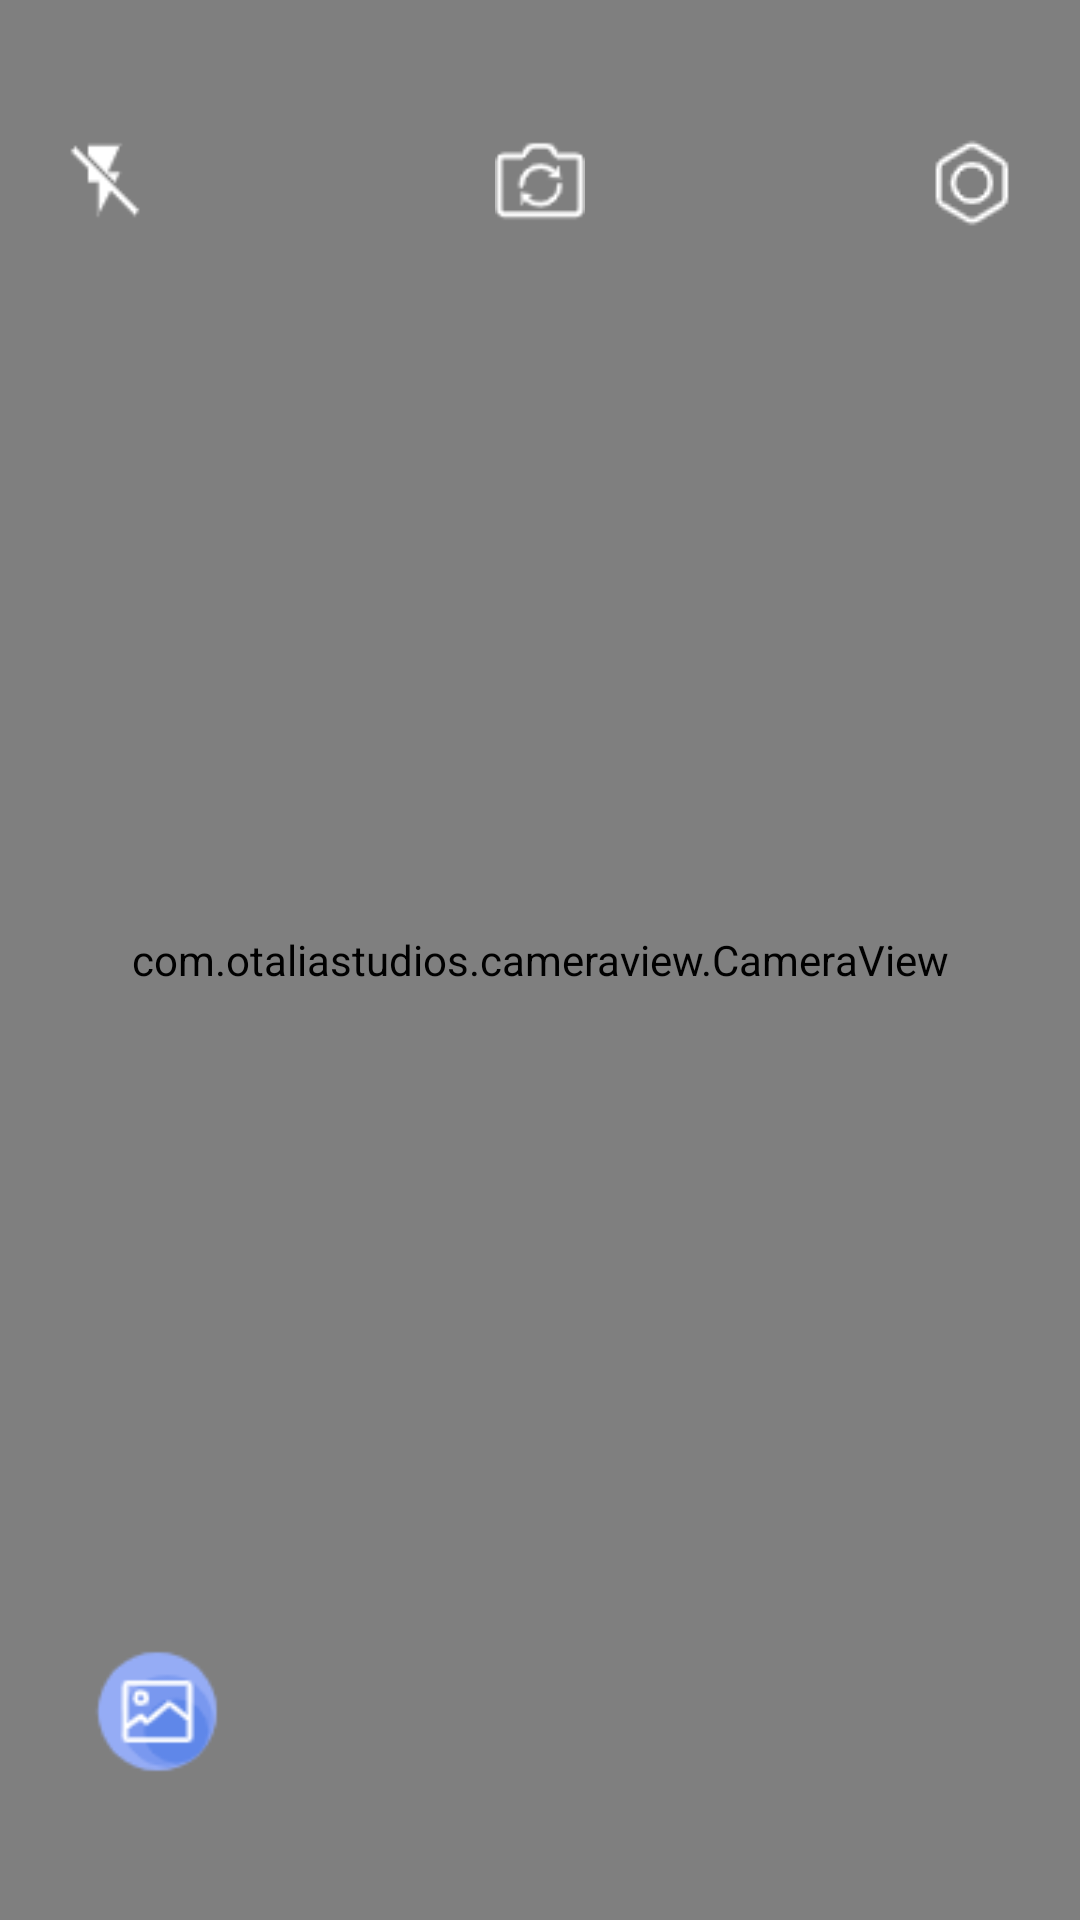

Screen size 1080*1920. Icon name, then its center in pixels as point (x, y):
camera switch: point (540, 181)
flash pictures: point (105, 180)
settings: point (972, 183)
thumbnail: point (157, 1711)
